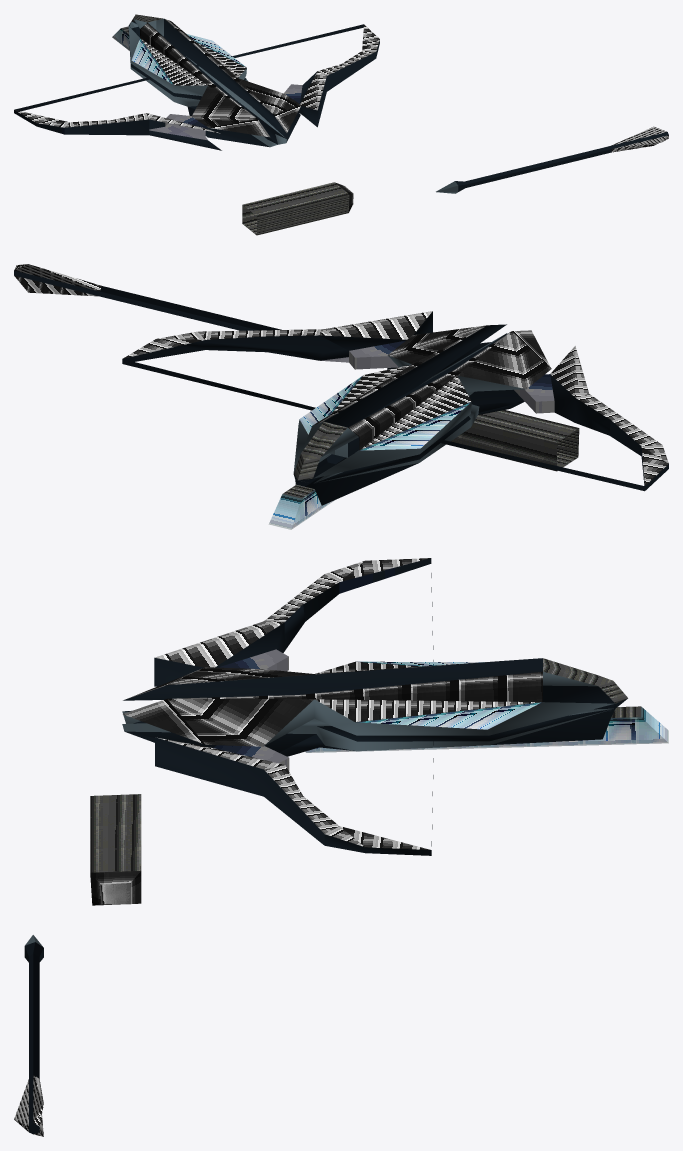
File: Gun001B.obj
3 views of the same model, one above another, from view 1: azimuth 30°, elevation 25°; view 2: azimuth 150°, elevation 25°; view 3: azimuth 270°, elevation 25° (orthographic). The views are drawn at different scales.
Visible parts, largest first — view 1: Room05_primary, Room07_primary, Room02_primary; view 2: Room05_primary, Room07_primary, Room02_primary; view 3: Room05_primary, Room07_primary, Room02_primary.
Boxes of the visible parts, bbox=[...] form: Room05_primary: bbox=[14, 14, 379, 150]; Room07_primary: bbox=[242, 182, 353, 235]; Room02_primary: bbox=[436, 126, 668, 193]; Room05_primary: bbox=[122, 311, 668, 529]; Room07_primary: bbox=[449, 410, 579, 471]; Room02_primary: bbox=[14, 264, 281, 330]; Room05_primary: bbox=[122, 558, 668, 855]; Room07_primary: bbox=[90, 794, 141, 905]; Room02_primary: bbox=[14, 935, 43, 1136].
Size of the model in its own units: 497 by 98 by 307.
Materials: 100 (100 with a texture image).
